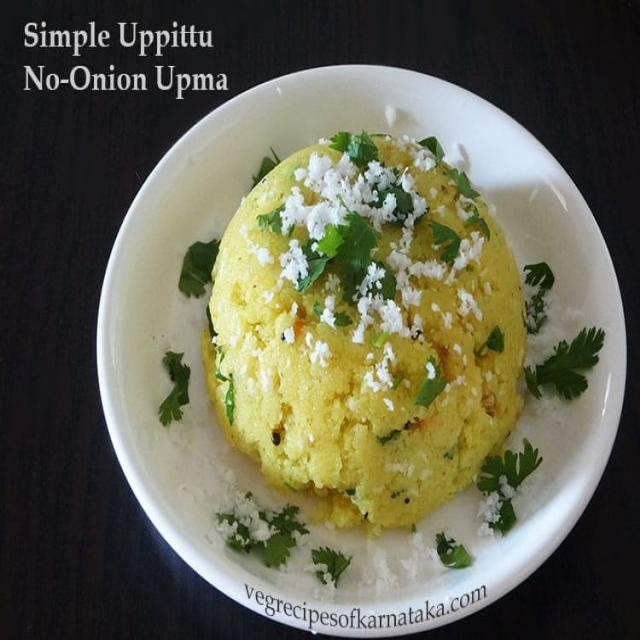upma: (185, 109, 557, 570)
